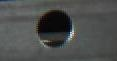holes: (33, 8, 75, 48)
